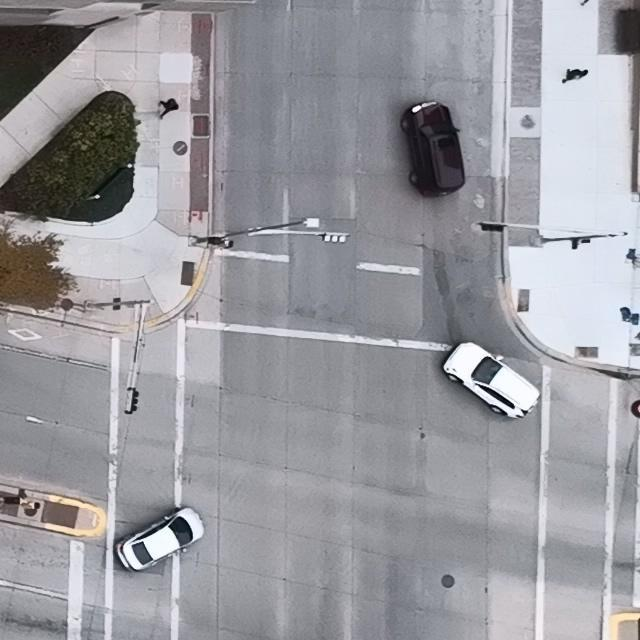car: (444, 341, 541, 418), (400, 100, 464, 198), (115, 507, 204, 572)
